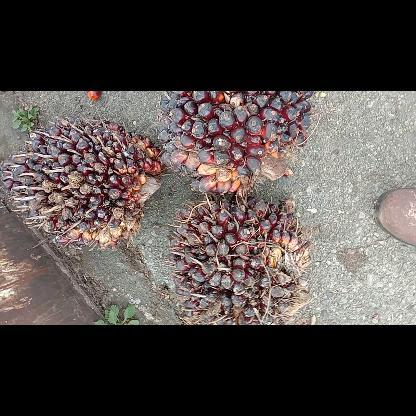TBS mentah: (0, 117, 161, 248), (166, 196, 310, 324), (158, 91, 314, 193)
